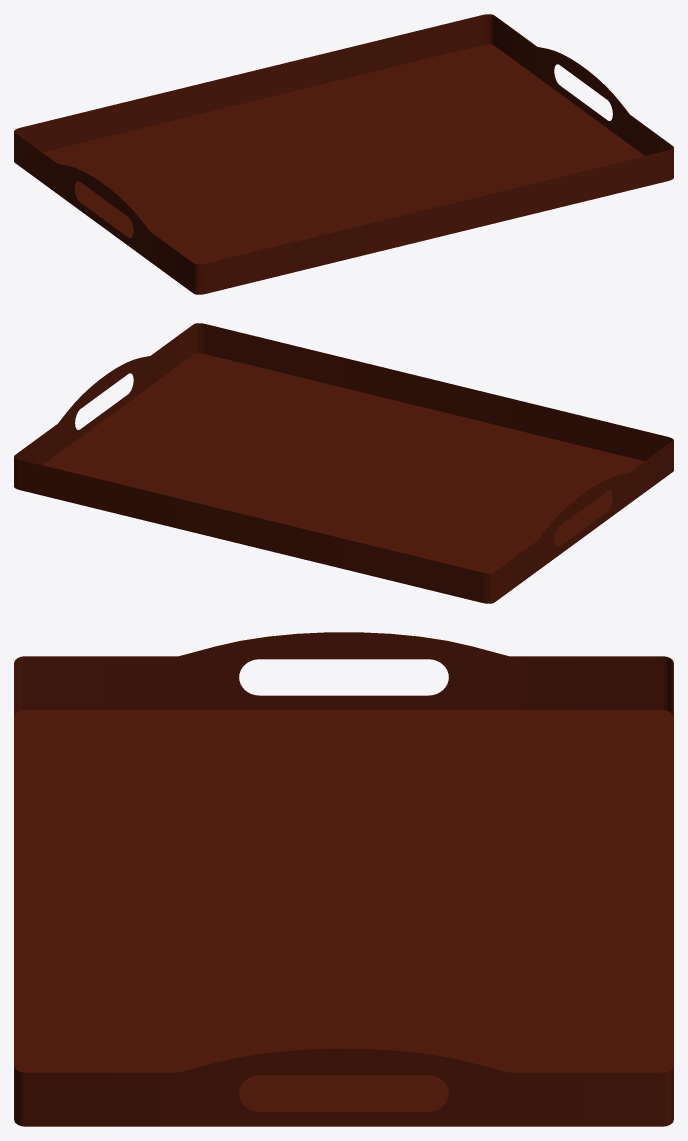
Rendered from Tray_EQ.glb.
3 renders of one model, top to bottom at view 1: azimuth 30°, elevation 25°; view 2: azimuth 150°, elevation 25°; view 3: azimuth 270°, elevation 25°, orthographic. The views are drawn at different scales.
Parts seen in each view (by area): view 1: traymesh; view 2: traymesh; view 3: traymesh.
Boxes of the visible parts, box(x1,y1,x2,y2) form: traymesh: box(14, 14, 673, 294); traymesh: box(14, 323, 673, 603); traymesh: box(14, 632, 673, 1126).
Bounding box in the file's own units: 0.659 × 0.0575 × 0.4414.
